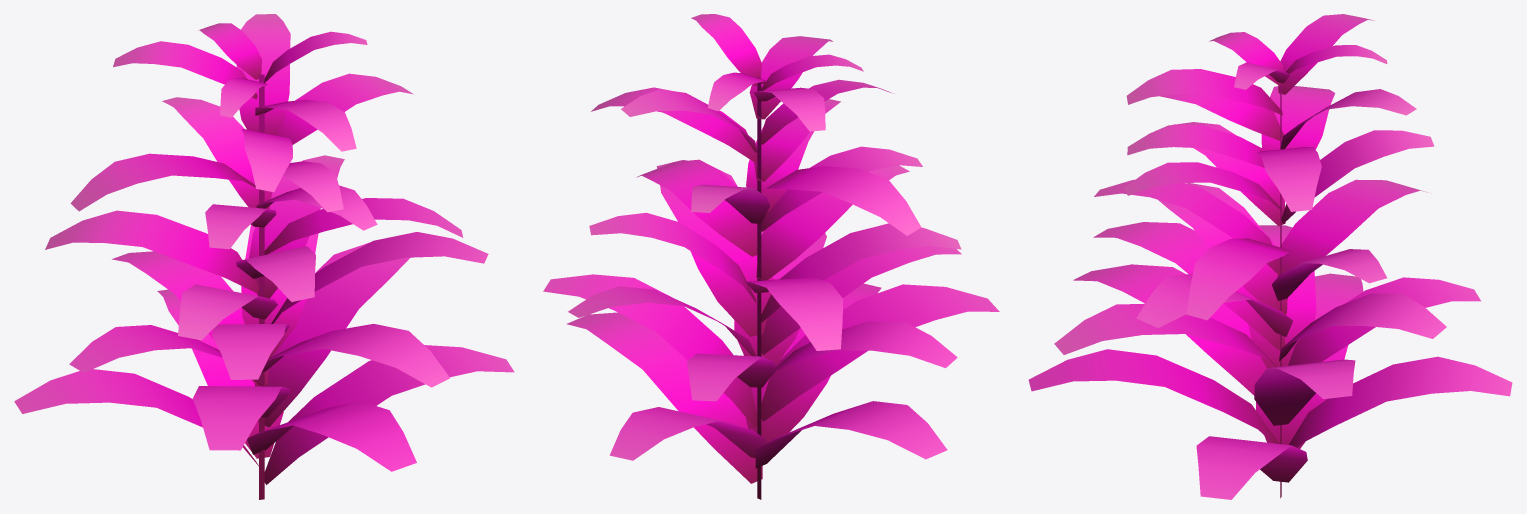
File: plant.fbx
3 renders of one model, left to right at view 1: azimuth 30°, elevation 25°; view 2: azimuth 150°, elevation 25°; view 3: azimuth 270°, elevation 25°, orthographic.
Parts seen in each view (by area): view 1: plant; view 2: plant; view 3: plant.
Boxes of the visible parts, x1,y1,x2,y2 form: plant: (14,14,514,499); plant: (543,14,999,499); plant: (1028,14,1512,499).
Bounding box in the file's own units: 49.6 × 49.94 × 47.99.
